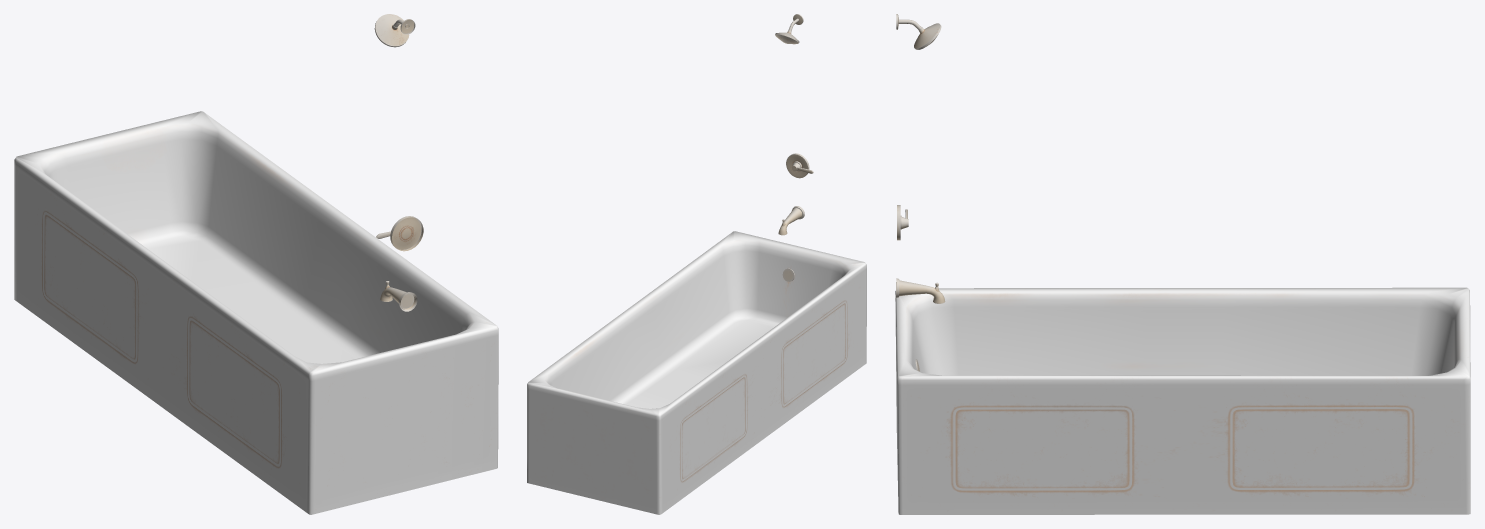
The model's file is SM_Bath_A1.fbx.
The picture shows the model from 3 angles, left to right: view 1: azimuth 30°, elevation 25°; view 2: azimuth 150°, elevation 25°; view 3: azimuth 270°, elevation 25°; orthographic projection. The views are drawn at different scales.
Visible parts, largest first — view 1: SM_Bath_A1; view 2: SM_Bath_A1; view 3: SM_Bath_A1.
Boxes of the visible parts, x1,y1,x2,y2 form: SM_Bath_A1: (14, 14, 498, 514); SM_Bath_A1: (527, 14, 866, 514); SM_Bath_A1: (895, 14, 1470, 514).
Bounding box in the file's own units: 89.37 × 241 × 211.
Materials: 1 (1 with a texture image).
